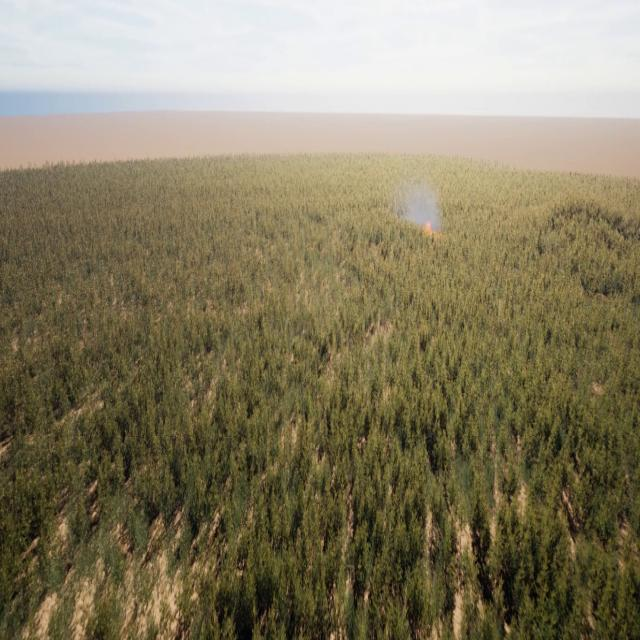fire: (422, 212, 438, 238)
smoke: (394, 169, 447, 237)
